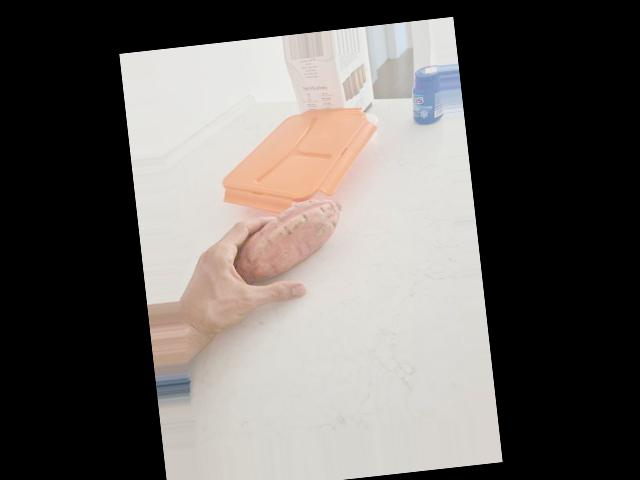sweet_potato: (233, 195, 349, 286)
